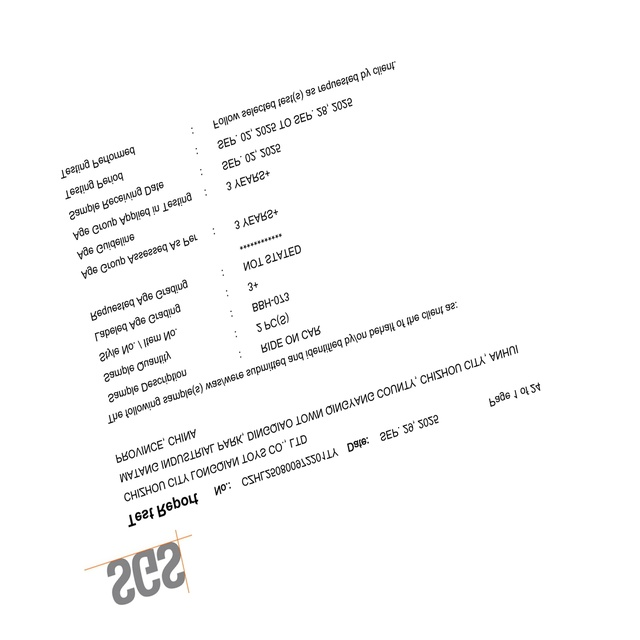sgs: (108, 543, 185, 606)
